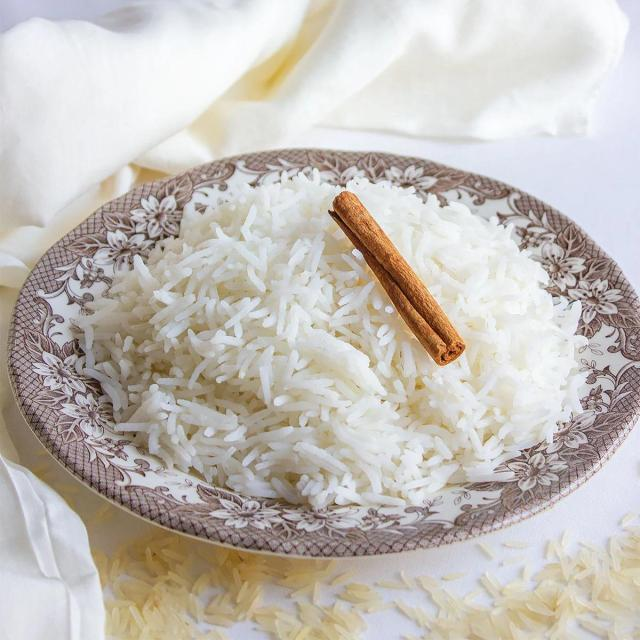rice: (85, 167, 589, 501)
